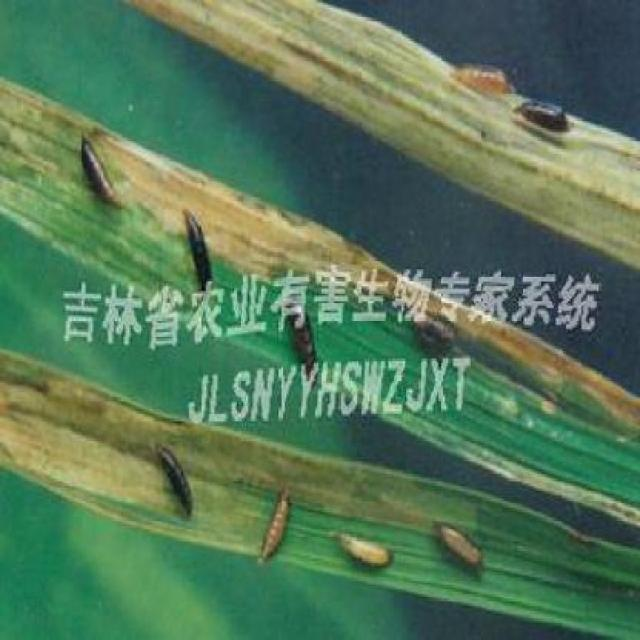whorl-maggot: (72, 126, 128, 219), (149, 435, 203, 530), (509, 77, 573, 143), (254, 472, 294, 576), (335, 518, 400, 578), (432, 513, 491, 578), (170, 201, 216, 279), (446, 55, 512, 99)
